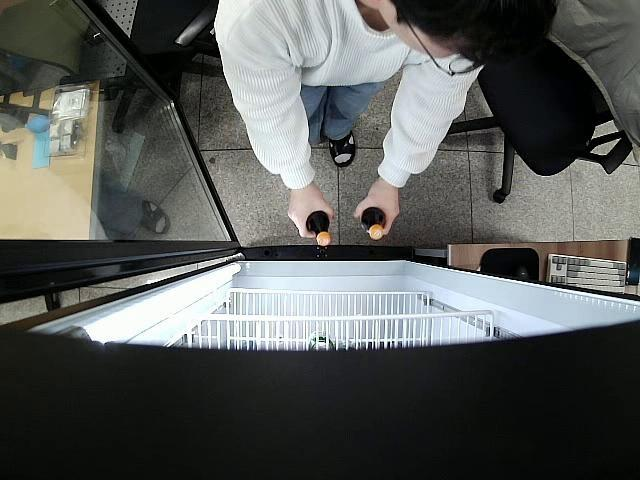17_vita500: (359, 206, 388, 241), (306, 207, 331, 246)
